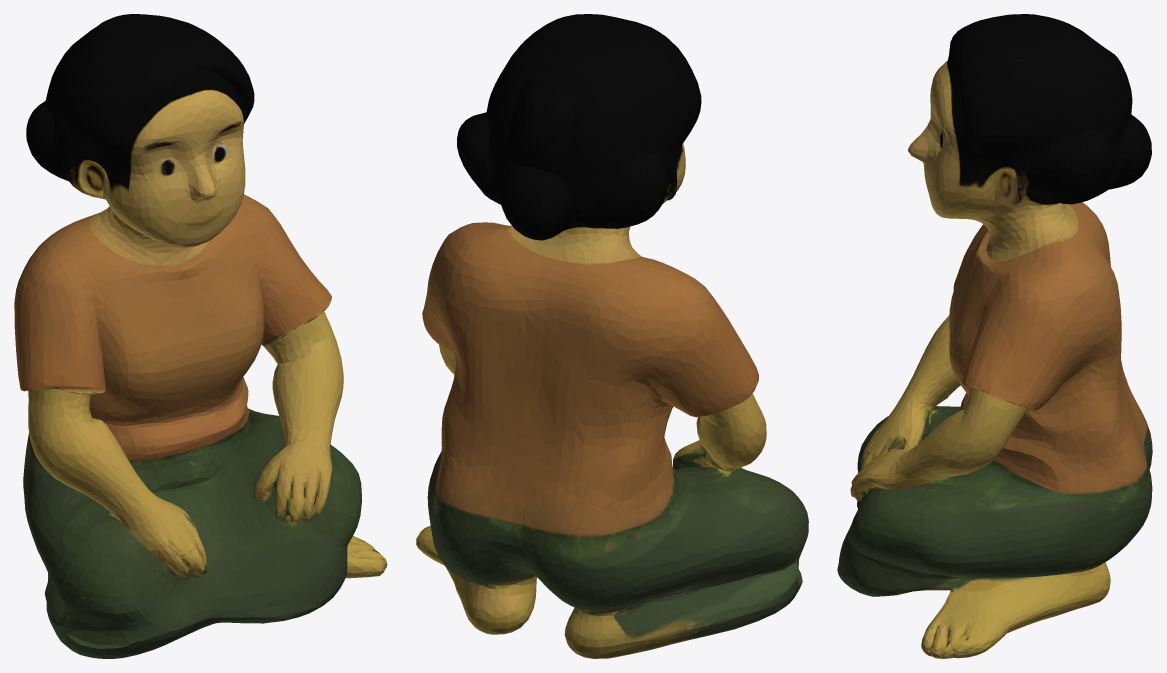
The model's file is viewer_1.glb.
3 views of the same model, side by side, from view 1: azimuth 30°, elevation 25°; view 2: azimuth 150°, elevation 25°; view 3: azimuth 270°, elevation 25° (orthographic). The views are drawn at different scales.
Visible parts, largest first — view 1: world; view 2: world; view 3: world.
Boxes of the visible parts, box(x1,y1,x2,y2) form: world: box(14, 14, 387, 658); world: box(416, 14, 808, 658); world: box(837, 14, 1152, 658).
Size of the model in its own units: 0.6286 by 0.9995 by 0.5259.
1 material, 1 textured.
